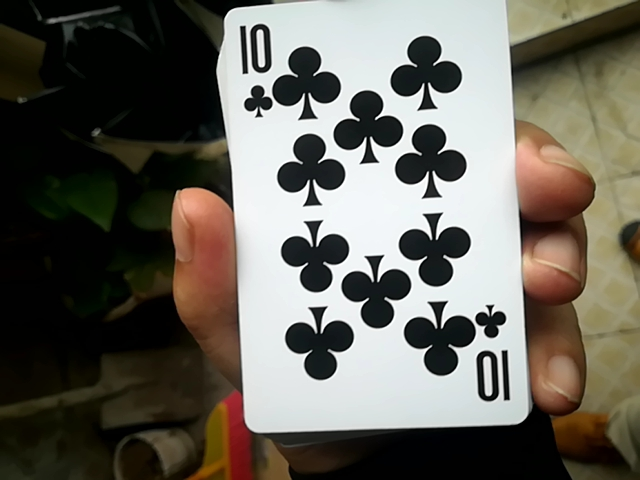mh 10: (217, 3, 524, 431)
